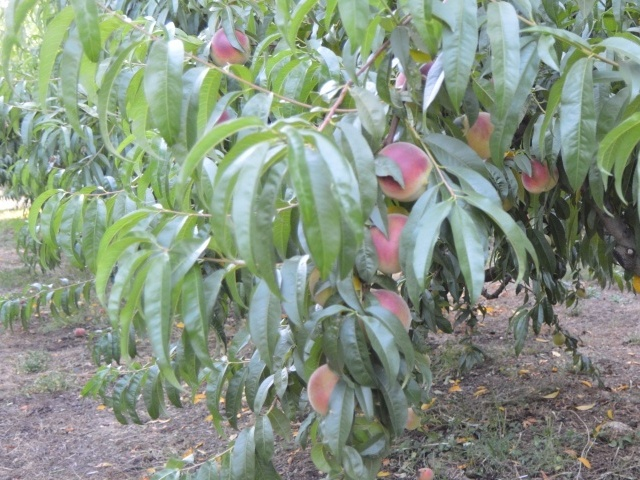peach: (369, 137, 436, 206), (365, 209, 421, 281), (363, 282, 417, 338), (304, 358, 347, 419), (209, 24, 255, 75), (462, 109, 501, 164), (517, 150, 560, 198), (303, 268, 337, 316)
